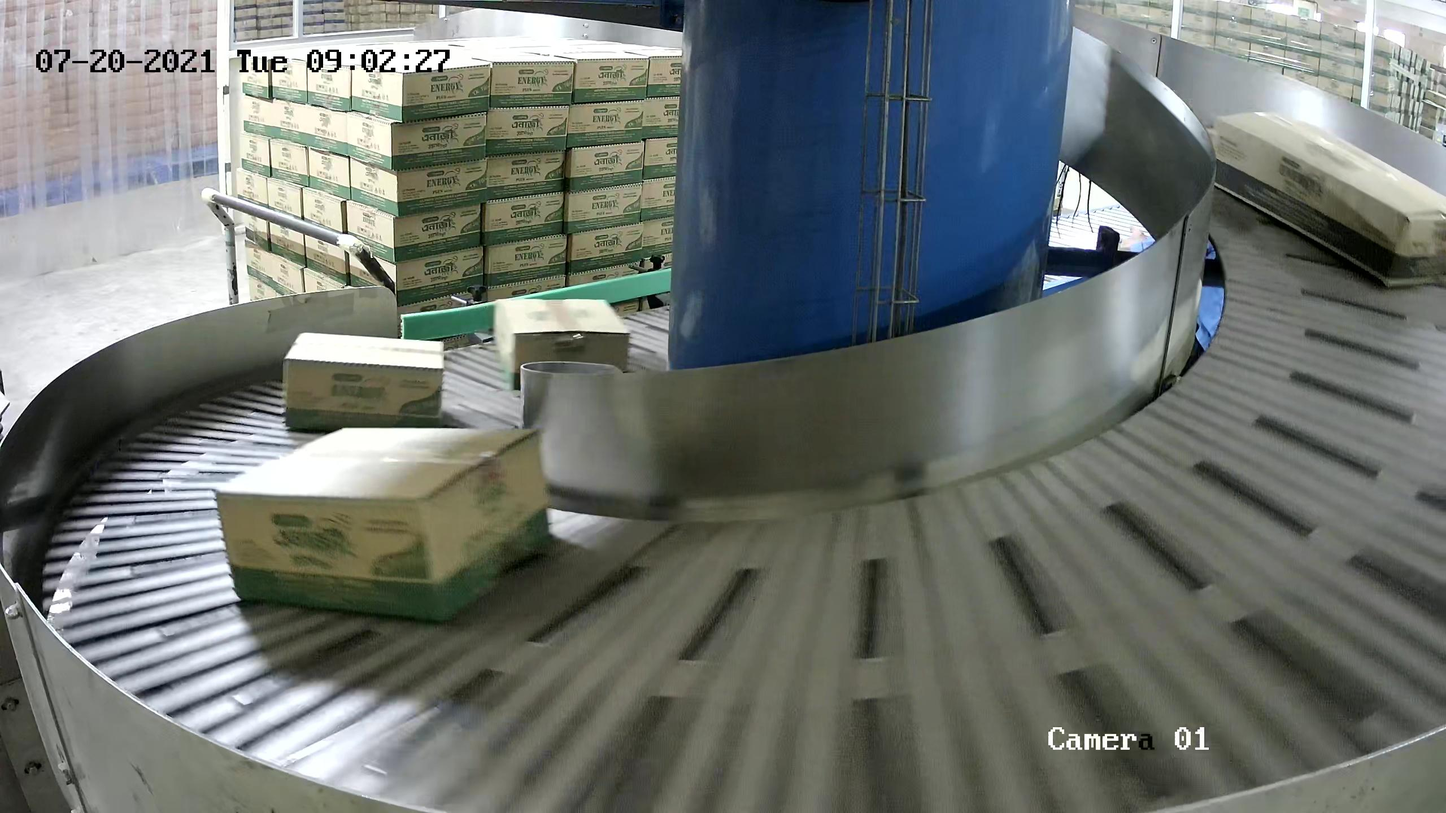Box: (211, 426, 556, 629), (1205, 110, 1446, 290), (284, 330, 445, 435), (495, 298, 632, 396)
